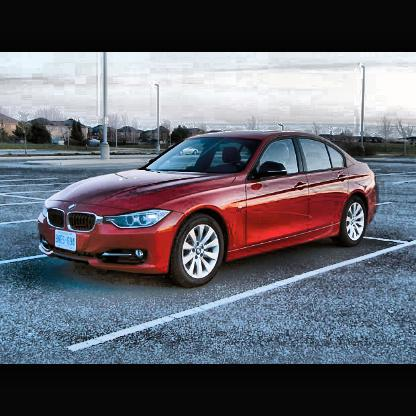BMW 3 Series Sedan 2012: (37, 131, 378, 290)
